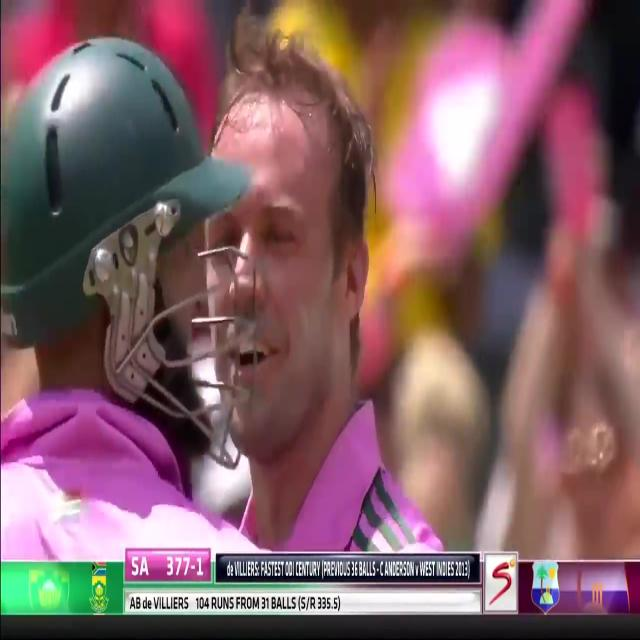Ball: (1, 26, 260, 562)
